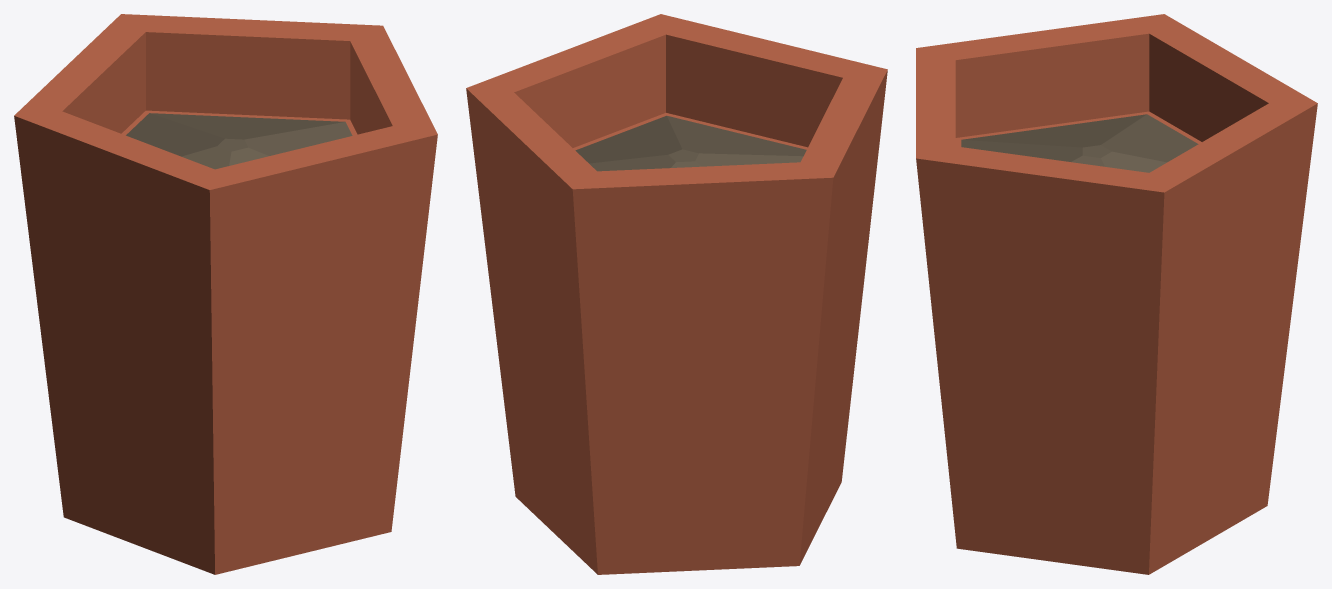
3 views of the same model, side by side, from view 1: azimuth 30°, elevation 25°; view 2: azimuth 150°, elevation 25°; view 3: azimuth 270°, elevation 25° (orthographic).
Parts seen in each view (by area): view 1: walls, floor; view 2: walls, floor; view 3: walls, floor.
Boxes of the visible parts, x1=… form: walls: x1=14, y1=14, x2=437, y2=574; floor: x1=126, y1=113, x2=352, y2=169; walls: x1=466, y1=14, x2=887, y2=574; floor: x1=575, y1=115, x2=806, y2=171; walls: x1=916, y1=14, x2=1317, y2=574; floor: x1=961, y1=114, x2=1198, y2=172.
Bounding box in the file's own units: 0.2853 × 0.3 × 0.2714.
